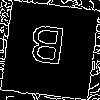B: (24, 24, 68, 74)
